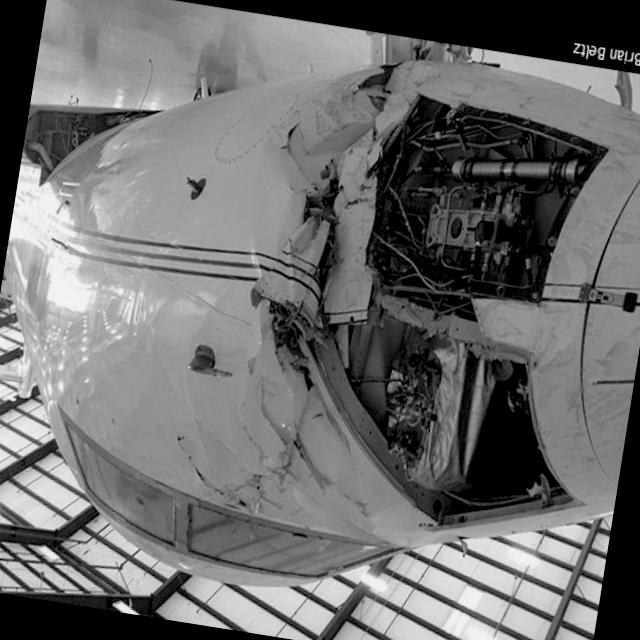crack: (164, 432, 258, 508), (268, 117, 320, 187)
